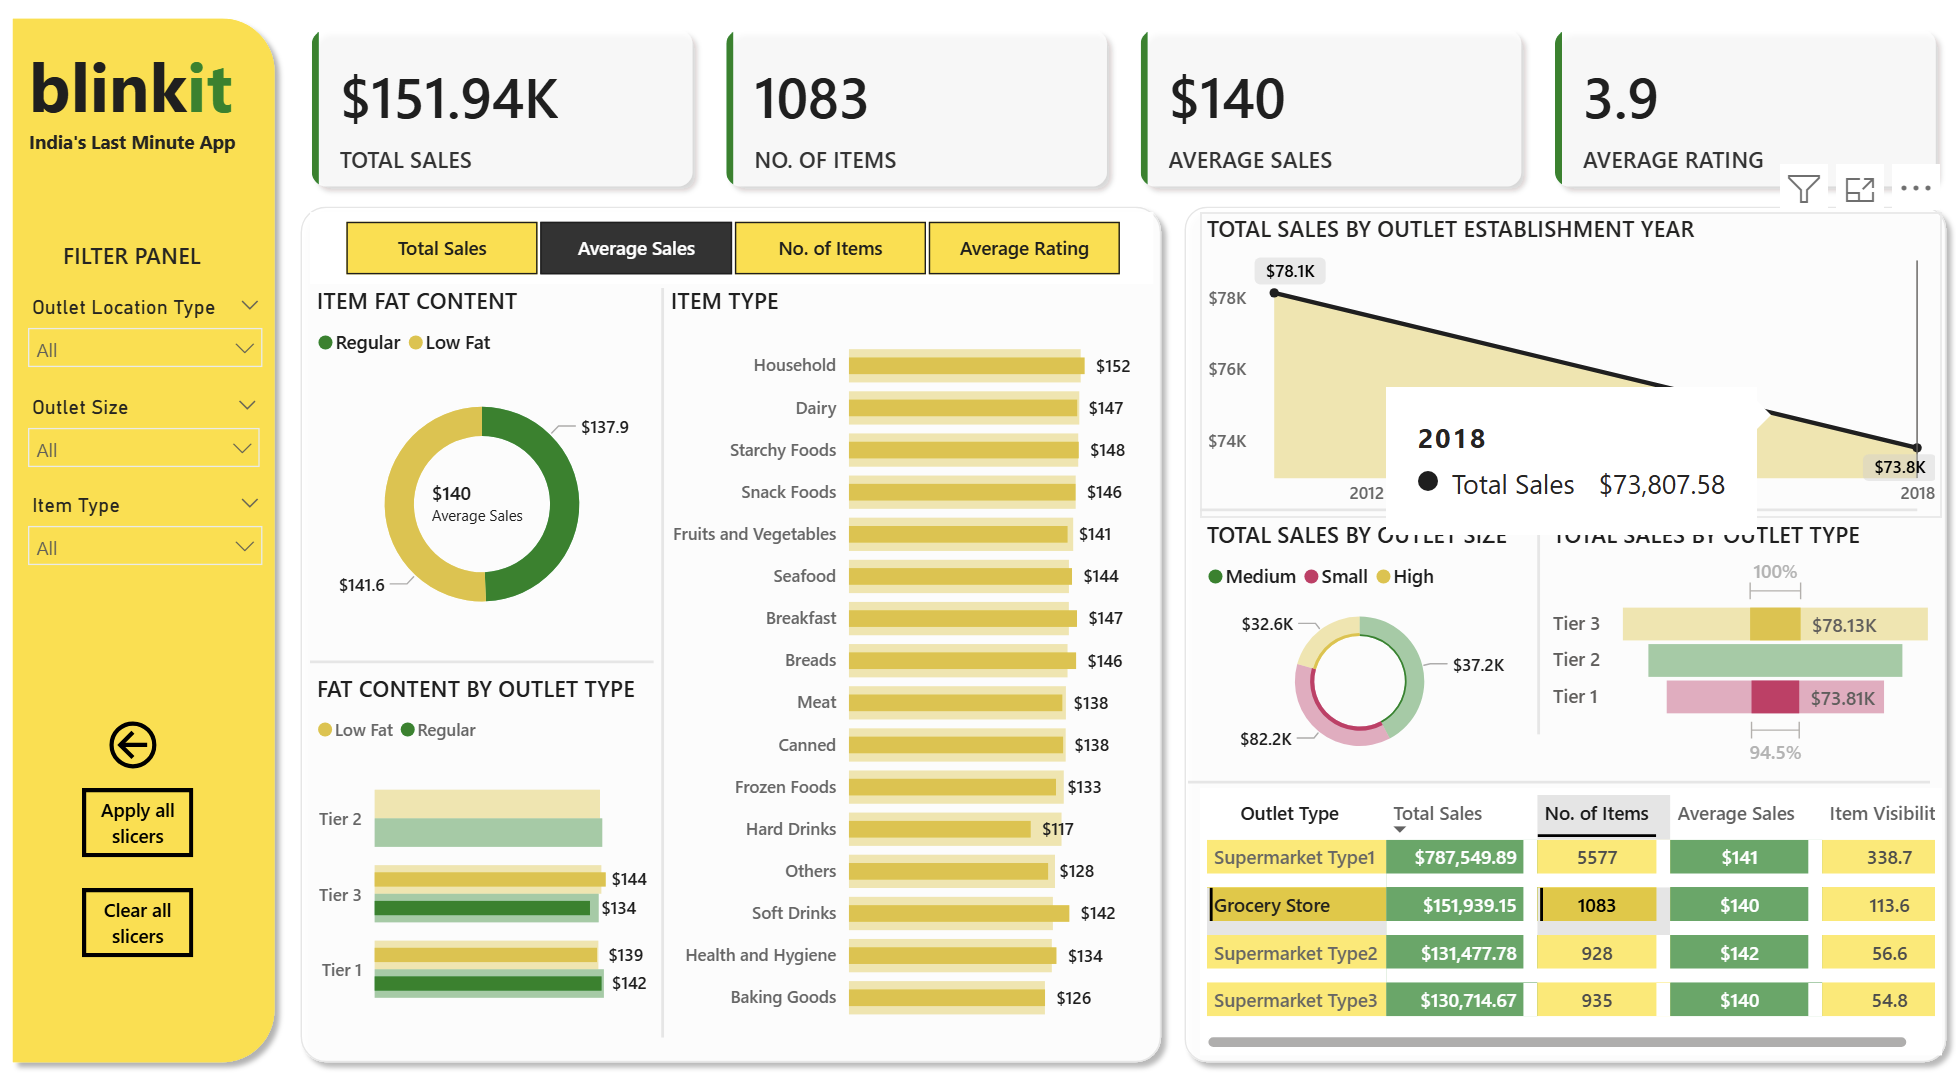

The dashboard page shown, as its layout file describes it:
{"tool":"powerbi","page":{"name":"Blinkit Sales Analysis","canvas":[1400,800],"ordinal":0},"visuals":[{"type":"shape","box":[0,24.7,205,763.5],"z":0},{"type":"textbox","box":[15.9,42.4,166.1,100.7],"z":1000},{"type":"cardVisual","fields":{"Data":["BlinkIT Grocery Data.Total Sales","BlinkIT Grocery Data.Count of Items","BlinkIT Grocery Data.Avg Sales","BlinkIT Grocery Data.Avg Rating"]},"box":[205,24.7,1194.7,146.7],"z":2000},{"type":"shape","box":[205,159.1,632.7,629.2],"z":3000},{"type":"donutChart","title":"ITEM FAT CONTENT","fields":{"Y":["BlinkIT Grocery Data.Average Sales"],"Category":["BlinkIT Grocery Data.Item Fat Content"]},"box":[220.9,222.7,245.7,263.3],"z":4000},{"type":"slicer","fields":{"Values":["Metrics.Metrics"]},"box":[220.9,171.4,602.7,51.3],"z":5000},{"type":"cardVisual","fields":{"Data":["BlinkIT Grocery Data.Average Sales"]},"box":[291.6,342.9,107.8,72.5],"z":6000},{"type":"clusteredBarChart","title":"FAT CONTENT BY OUTLET TYPE","fields":{"Y":["BlinkIT Grocery Data.Average Sales"],"Category":["BlinkIT Grocery Data.Outlet Location Type"],"Series":["BlinkIT Grocery Data.Item Fat Content"]},"box":[220.9,500.2,245.7,261.6],"z":7000},{"type":"shape","box":[220.9,486,245.7,14.1],"z":8000},{"type":"shape","box":[466.6,226.2,12.4,535.5],"z":9000},{"type":"clusteredBarChart","title":"ITEM TYPE","fields":{"Y":["BlinkIT Grocery Data.Average Sales"],"Category":["BlinkIT Grocery Data.Item Type"]},"box":[473.6,222.7,341.1,539],"z":10000},{"type":"shape","box":[837.7,159.1,562,629.2],"z":11000},{"type":"lineChart","title":"TOTAL SALES BY OUTLET ESTABLISHMENT YEAR","fields":{"Y":["BlinkIT Grocery Data.Total Sales"],"Category":["BlinkIT Grocery Data.Outlet Establishment Year"]},"box":[857.2,171.4,530.2,219.2],"z":12000},{"type":"shape","box":[857.2,376.4,512.5,14.1],"z":13000},{"type":"donutChart","title":"TOTAL SALES BY OUTLET SIZE","fields":{"Y":["BlinkIT Grocery Data.Total Sales"],"Category":["BlinkIT Grocery Data.Outlet Size"]},"box":[857.2,390.6,228,182],"z":14000},{"type":"shape","box":[1092.2,385.3,12.4,159.1],"z":15000},{"type":"funnel","title":"TOTAL SALES BY OUTLET TYPE","fields":{"Y":["BlinkIT Grocery Data.Total Sales"],"Category":["BlinkIT Grocery Data.Outlet Location Type"]},"box":[1104.6,390.6,282.8,182],"z":16000},{"type":"shape","box":[848.3,574.4,530.2,8.8],"z":17000},{"type":"pivotTable","fields":{"Values":["BlinkIT Grocery Data.Total Sales","BlinkIT Grocery Data.No. of Items","BlinkIT Grocery Data.Average Sales","Sum(BlinkIT Grocery Data.Item Visibility)"],"Rows":["BlinkIT Grocery Data.Outlet Type"]},"box":[857.2,583.2,530.2,190.9],"z":18000},{"type":"slicer","fields":{"Values":["BlinkIT Grocery Data.Outlet Location Type"]},"box":[10.6,226.2,187.3,70.7],"z":19000},{"type":"slicer","fields":{"Values":["BlinkIT Grocery Data.Outlet Size"]},"box":[10.6,296.9,185.6,70.7],"z":20000},{"type":"slicer","fields":{"Values":["BlinkIT Grocery Data.Item Type"]},"box":[10.6,367.6,187.3,70.7],"z":21000},{"type":"textbox","box":[40.6,185.6,125.5,40.6],"z":22000},{"type":"actionButton","box":[58.3,653.9,79.5,49.5],"z":23000},{"type":"actionButton","box":[72.5,530.2,51.3,44.2],"z":25000},{"type":"actionButton","box":[58.3,583.2,79.5,49.5],"z":27000}]}

Visuals, with their boxes on the page's 1400x800 design canvas (x1, y1, x2, y2). These are canvas units, not pixel positions in the 1956x1084 screenshot, which may show the page scaled, cropped or inside an application window:
shape: [left=0, top=25, right=205, bottom=788]
textbox: [left=16, top=42, right=182, bottom=143]
cardVisual - BlinkIT Grocery Data.Total Sales x BlinkIT Grocery Data.Count of Items: [left=205, top=25, right=1400, bottom=171]
shape: [left=205, top=159, right=838, bottom=788]
"ITEM FAT CONTENT" donutChart: [left=221, top=223, right=467, bottom=486]
slicer - Metrics.Metrics: [left=221, top=171, right=824, bottom=223]
cardVisual - BlinkIT Grocery Data.Average Sales: [left=292, top=343, right=399, bottom=415]
"FAT CONTENT BY OUTLET TYPE" clusteredBarChart: [left=221, top=500, right=467, bottom=762]
shape: [left=221, top=486, right=467, bottom=500]
shape: [left=467, top=226, right=479, bottom=762]
"ITEM TYPE" clusteredBarChart: [left=474, top=223, right=815, bottom=762]
shape: [left=838, top=159, right=1400, bottom=788]
"TOTAL SALES BY OUTLET ESTABLISHMENT YEAR" lineChart: [left=857, top=171, right=1387, bottom=391]
shape: [left=857, top=376, right=1370, bottom=390]
"TOTAL SALES BY OUTLET SIZE" donutChart: [left=857, top=391, right=1085, bottom=573]
shape: [left=1092, top=385, right=1105, bottom=544]
"TOTAL SALES BY OUTLET TYPE" funnel: [left=1105, top=391, right=1387, bottom=573]
shape: [left=848, top=574, right=1378, bottom=583]
pivotTable - BlinkIT Grocery Data.Total Sales x BlinkIT Grocery Data.No. of Items: [left=857, top=583, right=1387, bottom=774]
slicer - BlinkIT Grocery Data.Outlet Location Type: [left=11, top=226, right=198, bottom=297]
slicer - BlinkIT Grocery Data.Outlet Size: [left=11, top=297, right=196, bottom=368]
slicer - BlinkIT Grocery Data.Item Type: [left=11, top=368, right=198, bottom=438]
textbox: [left=41, top=186, right=166, bottom=226]
actionButton: [left=58, top=654, right=138, bottom=703]
actionButton: [left=72, top=530, right=124, bottom=574]
actionButton: [left=58, top=583, right=138, bottom=633]
